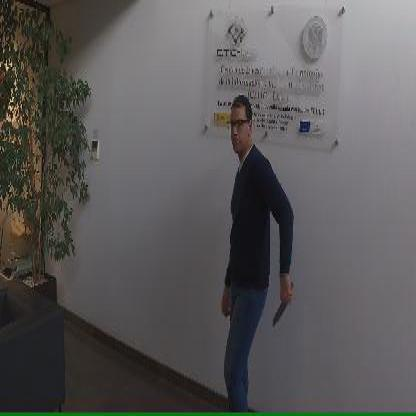knife: (271, 277, 295, 328)
